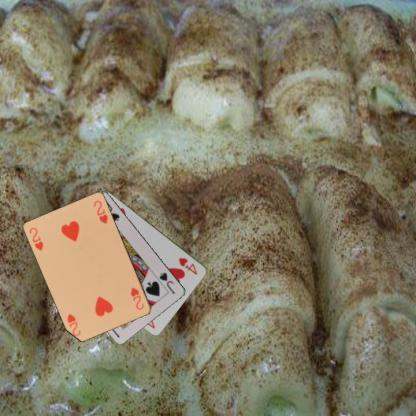2h: (26, 225, 44, 252), (128, 285, 146, 311)
4h: (176, 254, 199, 276)
Js: (156, 270, 177, 296)
